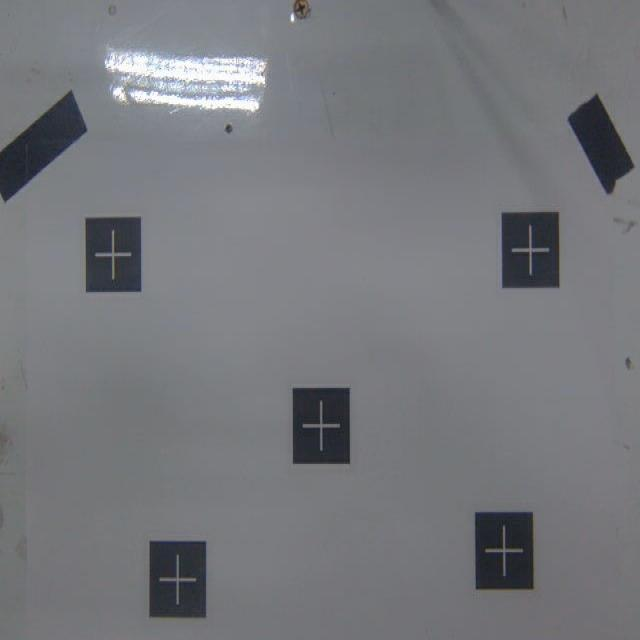dot: (475, 511, 534, 591), (150, 540, 207, 619), (293, 386, 349, 466), (502, 211, 560, 287), (87, 218, 141, 291)
